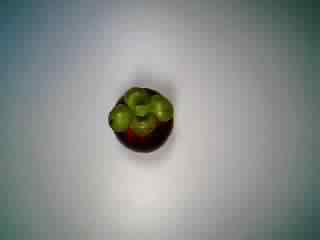mangosteen: (103, 82, 177, 154)
